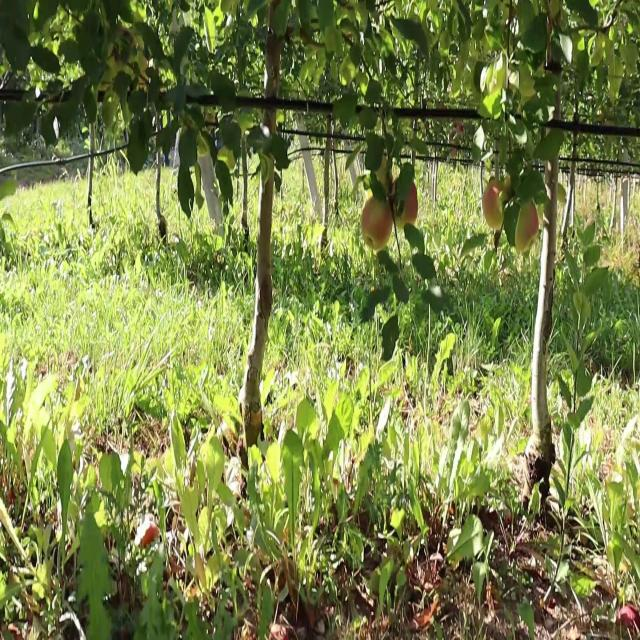apple: (360, 191, 394, 244), (484, 177, 514, 229), (516, 206, 540, 249), (376, 156, 399, 197), (516, 199, 540, 238), (400, 184, 420, 228), (365, 227, 393, 256), (516, 227, 533, 256), (492, 227, 504, 249)
